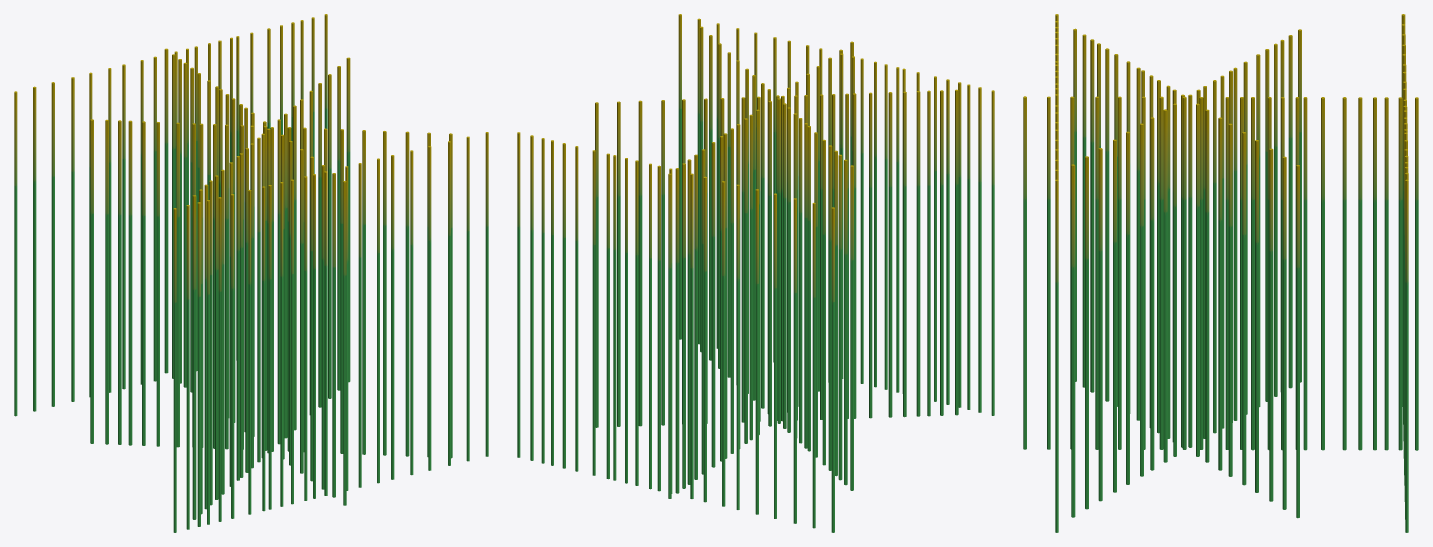
File: ricefield.fbx
The picture shows the model from 3 angles, left to right: view 1: azimuth 30°, elevation 25°; view 2: azimuth 150°, elevation 25°; view 3: azimuth 270°, elevation 25°; orthographic projection. The views are drawn at different scales.
Parts seen in each view (by area): view 1: pCylinder53; view 2: pCylinder53; view 3: pCylinder53.
Part boxes in pixels (x1,y1,x2,y2): pCylinder53: [14, 14, 488, 532]; pCylinder53: [517, 14, 994, 532]; pCylinder53: [1023, 14, 1418, 532].
Size of the model in its own units: 4.08 by 4 by 4.08.
